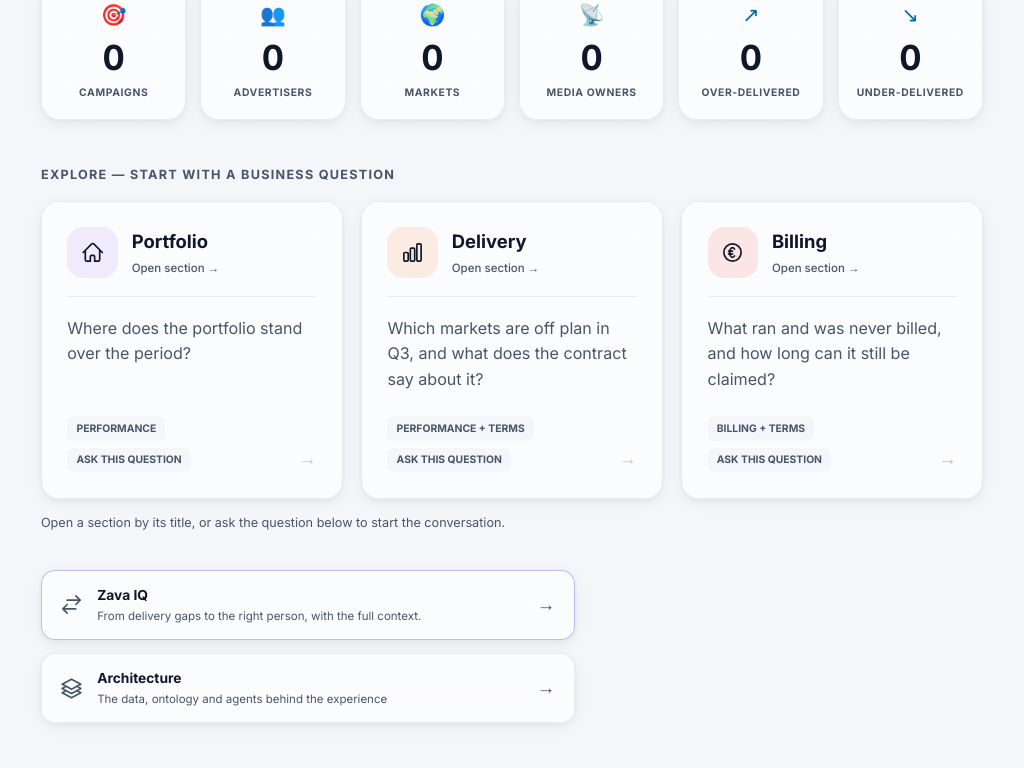
the cover › preserves question, route and panel from /
(page scrolled)
What coordinates should you click on to do the following:
click the button "Which markets are off plan in Q3, and what does the contract say about it?"
I would click on:
 (512, 385)
Its box is [387,297,637,472].
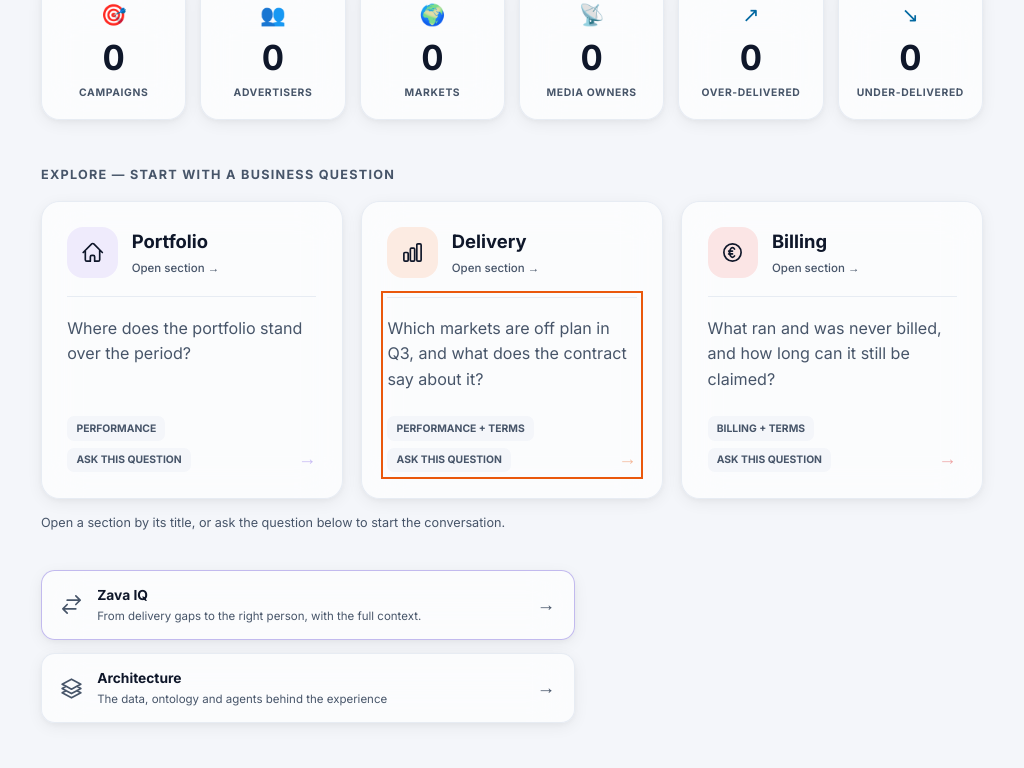
What coordinates should you click on to do the following:
click the button "What ran and was never billed, and how long can it still be claimed?"
I would click on:
 (832, 385)
Its box is [708,297,957,472].
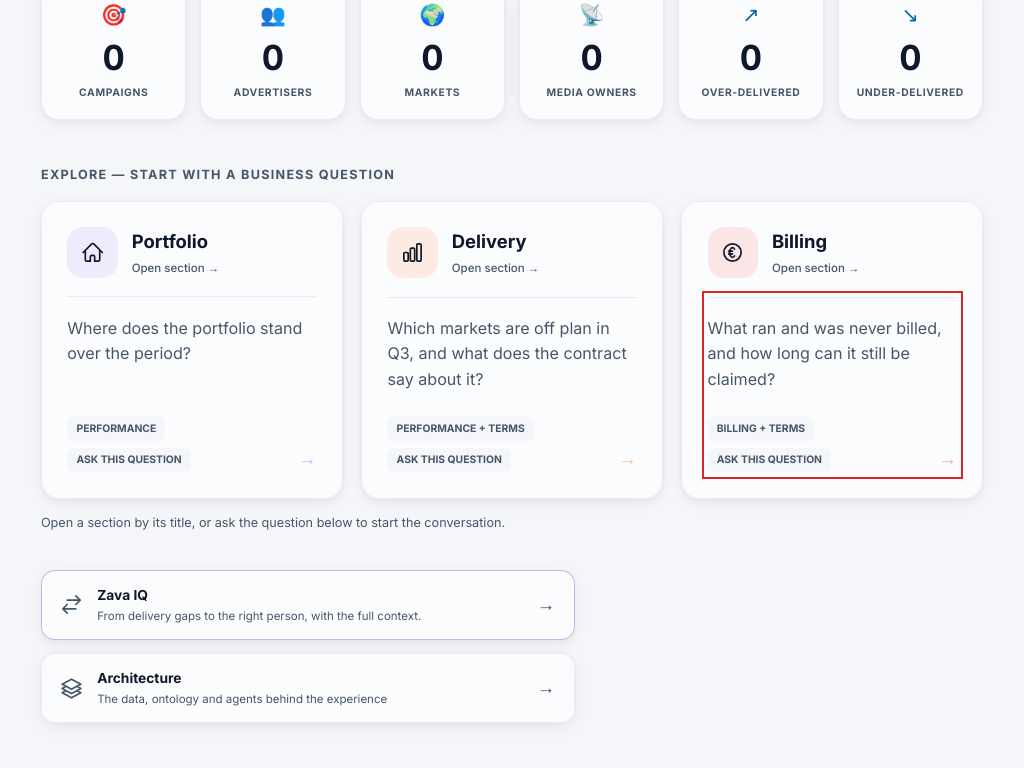
What coordinates should you click on to do the following:
click the button "Where does the portfolio stand over the period?"
I would click on:
 (192, 385)
Its box is [67,297,316,472].
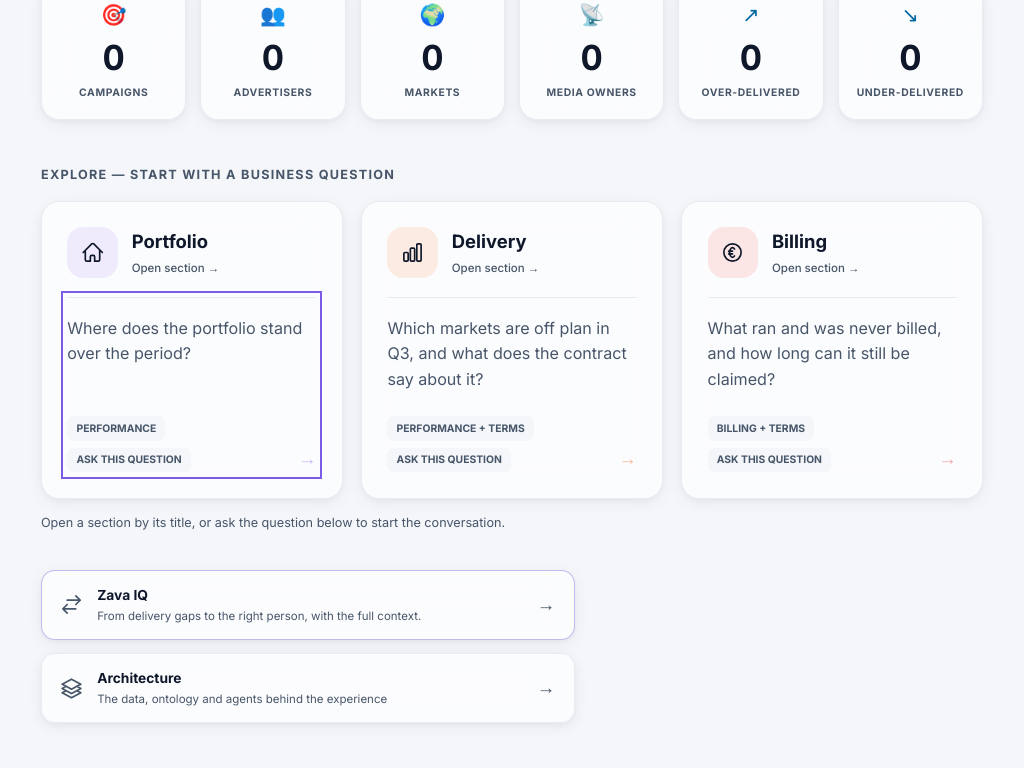
What coordinates should you click on to do the following:
click the button "Architecture"
I would click on:
 (139, 678)
Its box is [41,653,575,723].
(page scrolled)
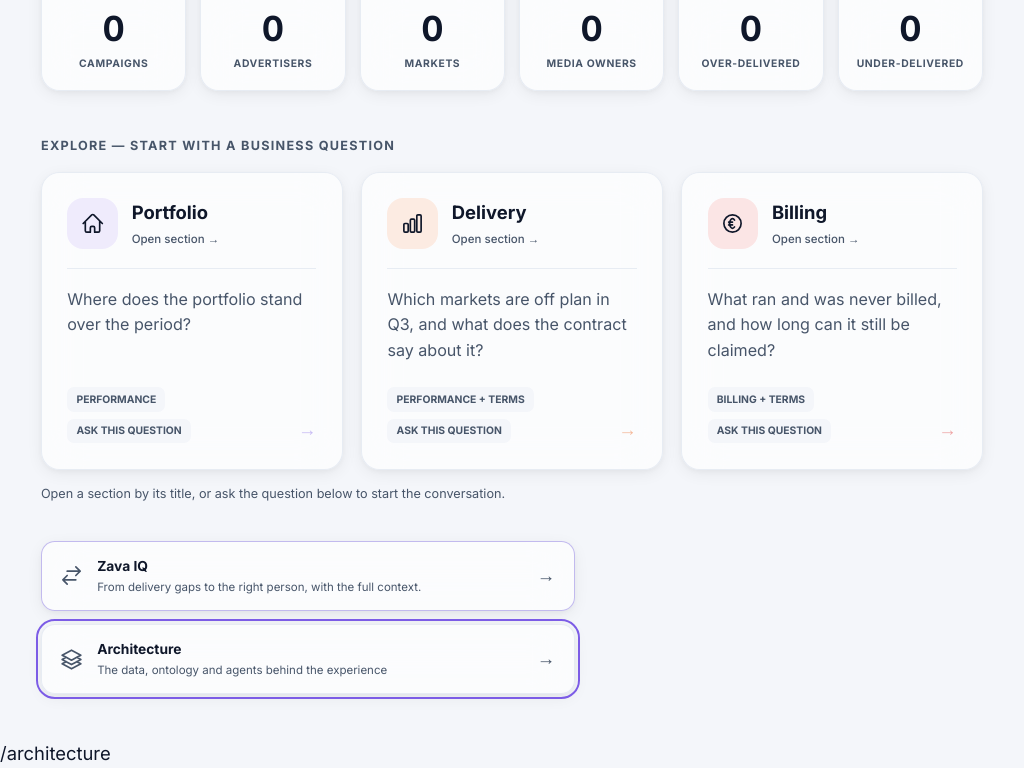
Expected: the text with test id "location" reads "/architecture", [0,742,111,764]
